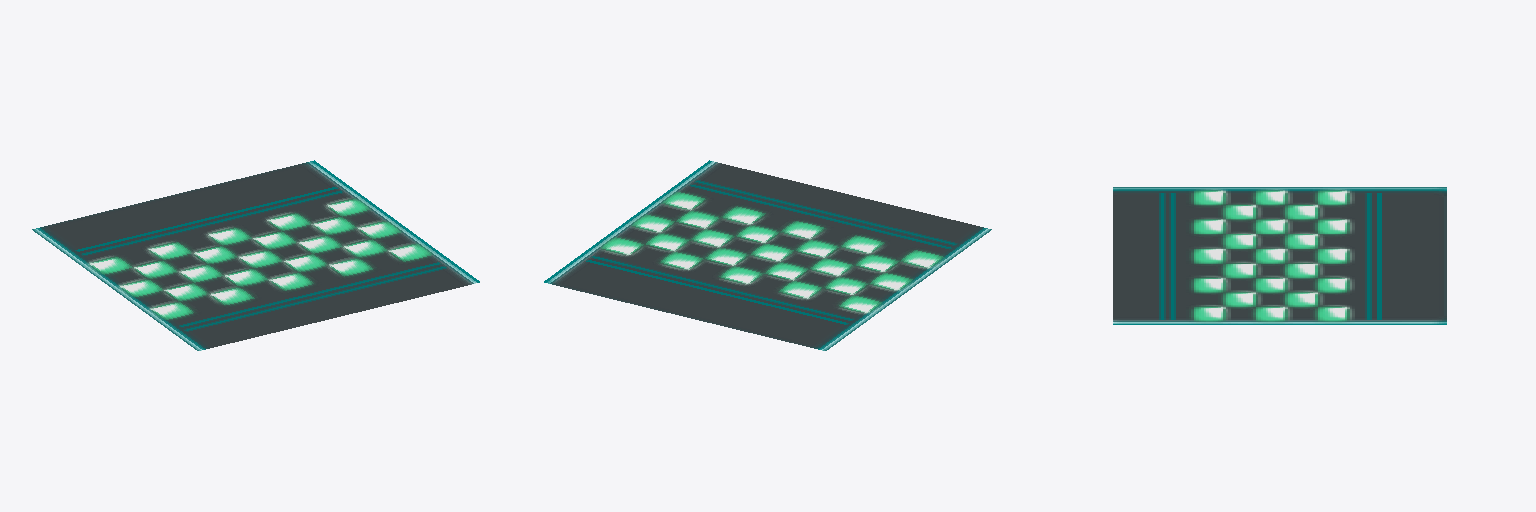
The picture shows the model from 3 angles: view 1: azimuth 30°, elevation 25°; view 2: azimuth 150°, elevation 25°; view 3: azimuth 270°, elevation 25°; orthographic projection.
Parts seen in each view (by area): view 1: Plane; view 2: Plane; view 3: Plane.
Part boxes in pixels (left/top/right/bottom): Plane: left=32, top=160, right=479, bottom=350; Plane: left=544, top=160, right=991, bottom=350; Plane: left=1113, top=187, right=1446, bottom=324.
Size of the model in its own units: 2 by 0 by 2.
1 materials, 1 textured.